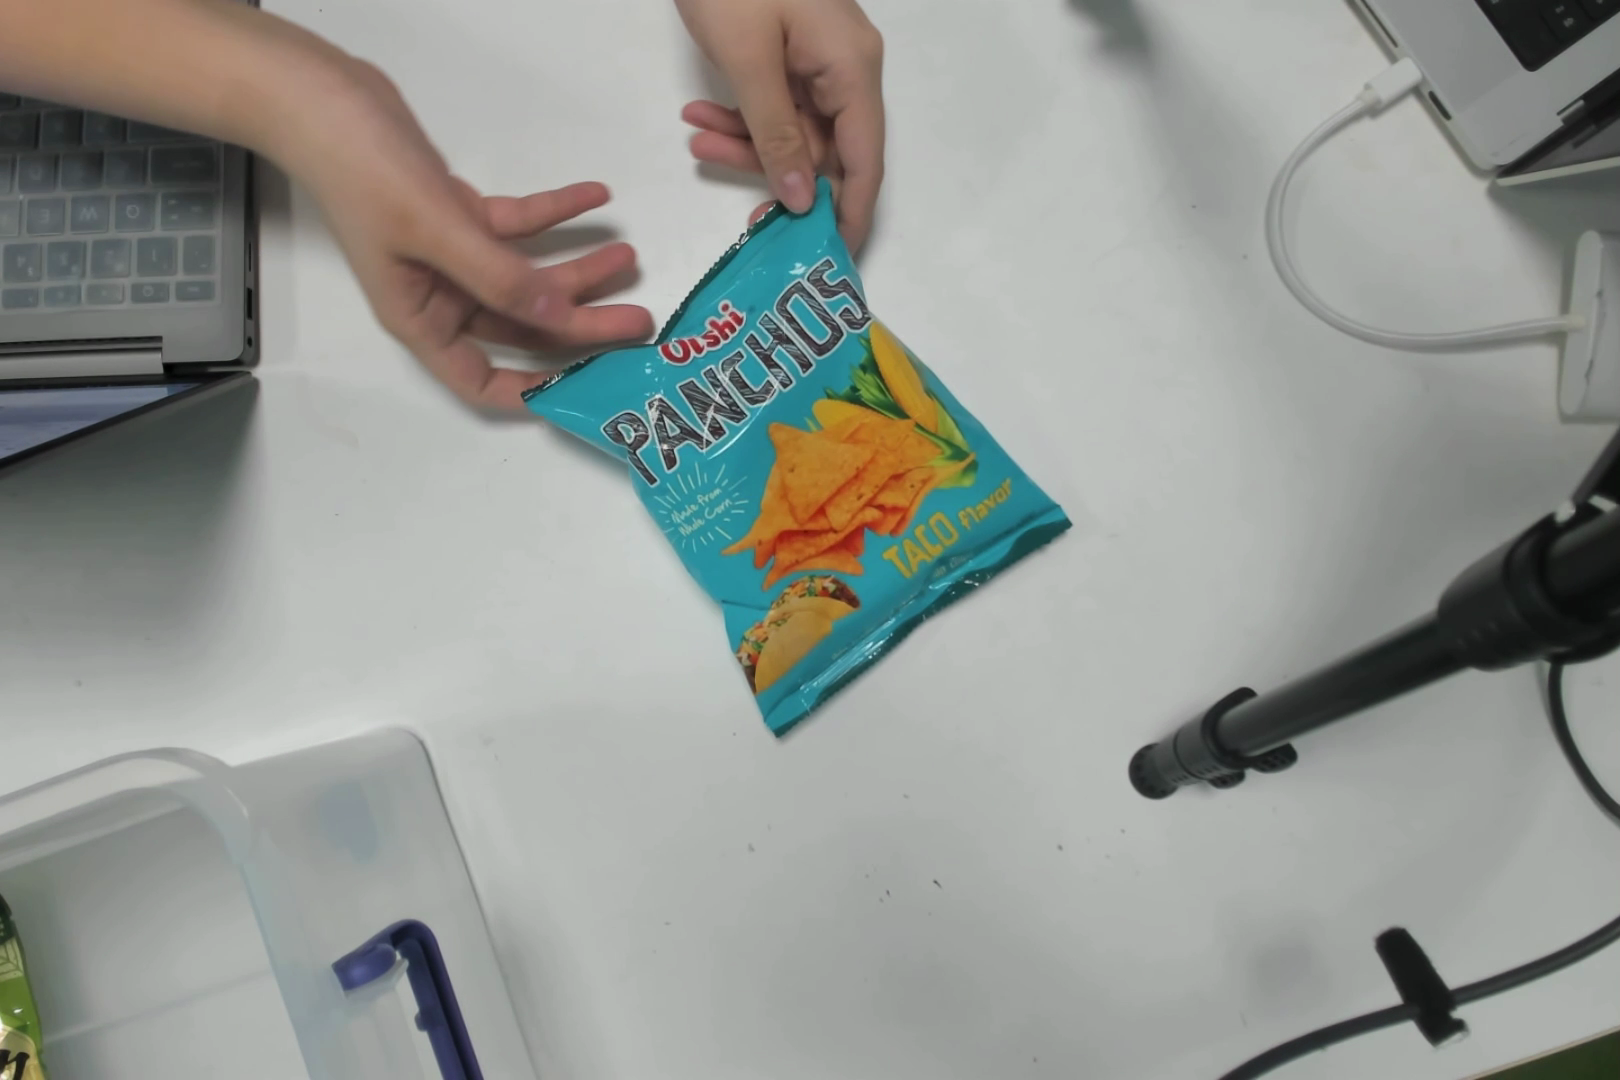PotatochipsKeropok_1-99g_NonHalal_NonHealthy: (618, 251, 1006, 644)
